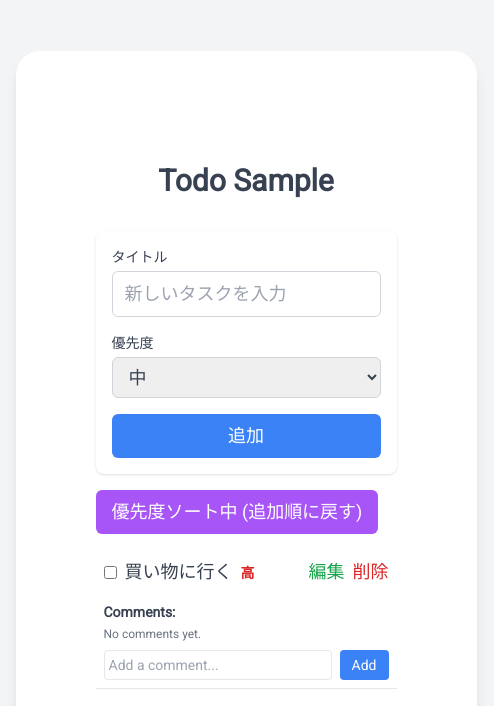
it: App › Todoアイテムにコメントを追加できる
The image size is (494, 706).
Note: Type a new comment
In the field with placeholder "Add a comment...": x=218, y=665 top-left (104, 650), bottom-right (332, 680), type "新しいコメント"
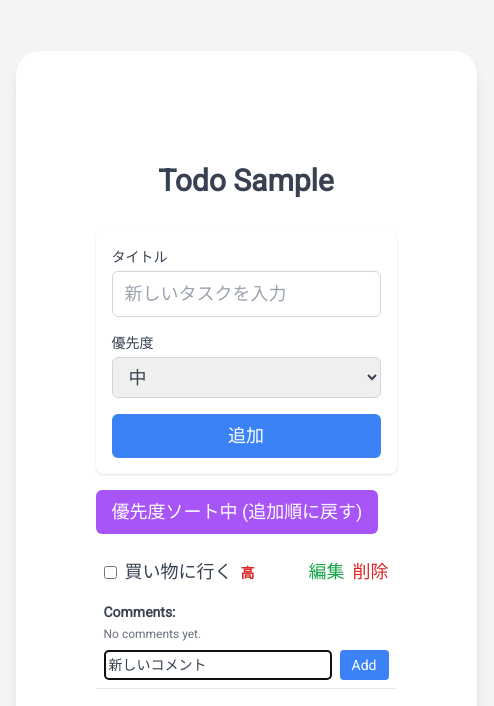
Note: Click the add button
Click the button "Add": x=364, y=665 top-left (340, 650), bottom-right (388, 680)
(page scrolled)
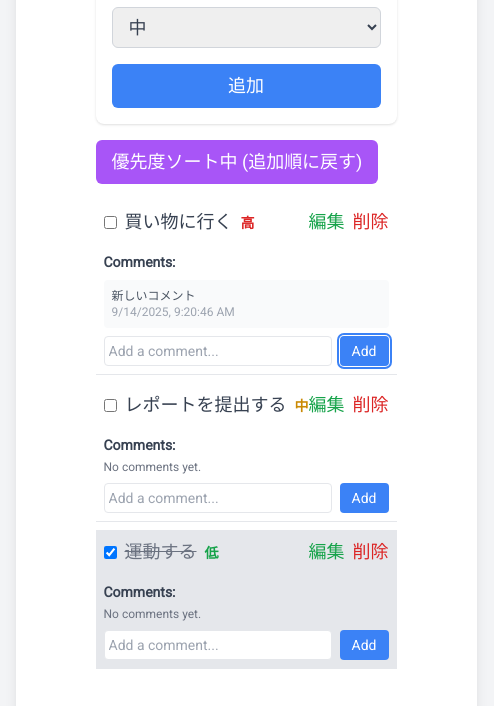
Expected: the text "新しいコメント" is shown, top-left (112, 289), bottom-right (196, 303)
Expected: the field with placeholder "Add a comment..." below "9/14/2025, 9:20:46 AM" is empty
Note: Add another comment to the same item to ensure multiple comments are handled
In the field with placeholder "Add a comment..." below "9/14/2025, 9:20:46 AM": x=218, y=351 top-left (104, 336), bottom-right (332, 366), type "２番目のコメント"
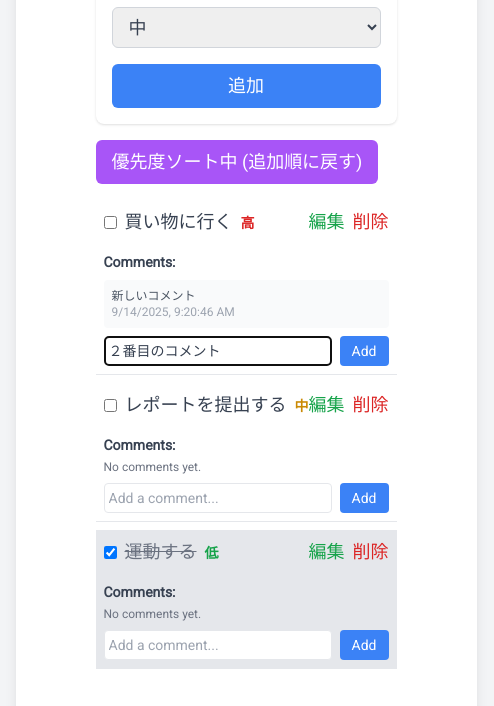
Click the button "Add" below "9/14/2025, 9:20:46 AM": x=364, y=351 top-left (340, 336), bottom-right (388, 366)
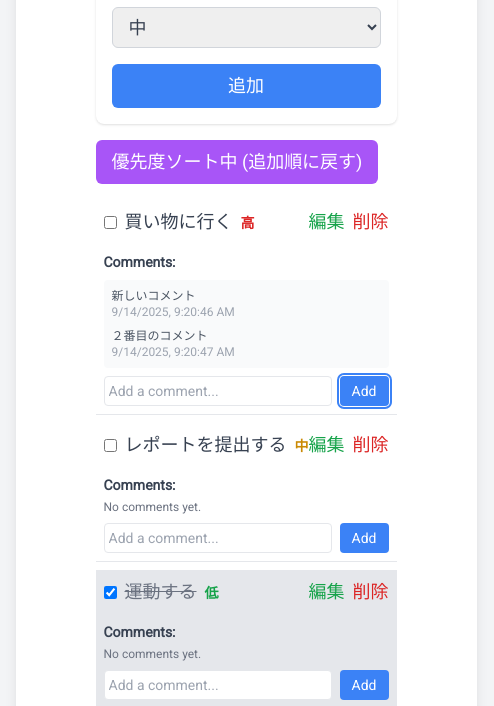
Expected: the text "新しいコメント" is shown, top-left (112, 289), bottom-right (196, 303)
Expected: the text "２番目のコメント" is shown, top-left (112, 329), bottom-right (208, 343)
